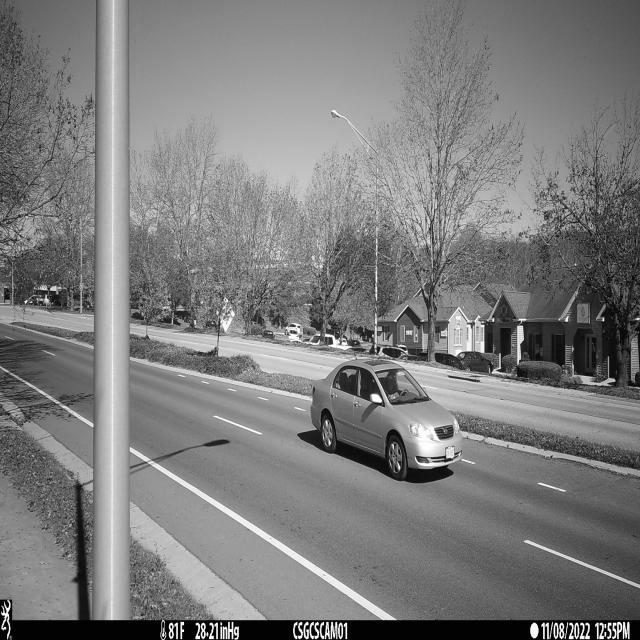Sedan: (309, 359, 463, 481)
